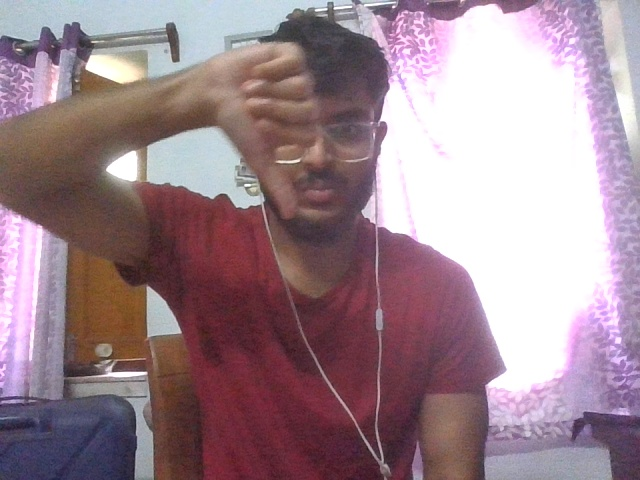ThumbsDown: (218, 40, 314, 220)
